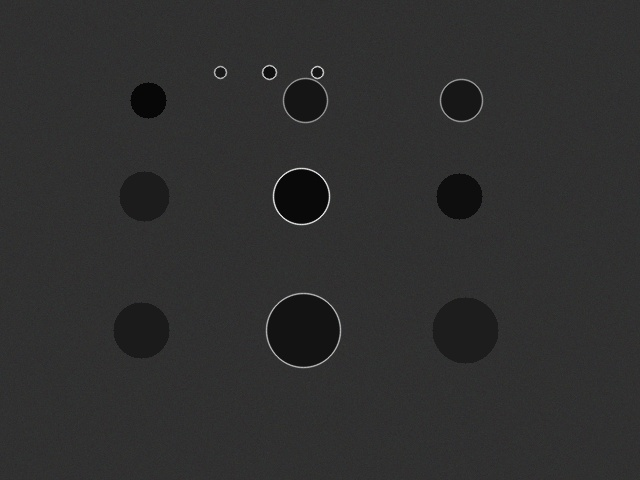hole: (266, 293, 340, 367), (432, 297, 498, 363), (273, 168, 329, 224), (113, 302, 169, 358), (119, 171, 169, 221), (436, 173, 482, 219), (283, 78, 327, 122), (440, 79, 482, 121), (130, 82, 166, 118), (262, 65, 276, 79), (214, 66, 226, 78), (311, 66, 323, 78)
